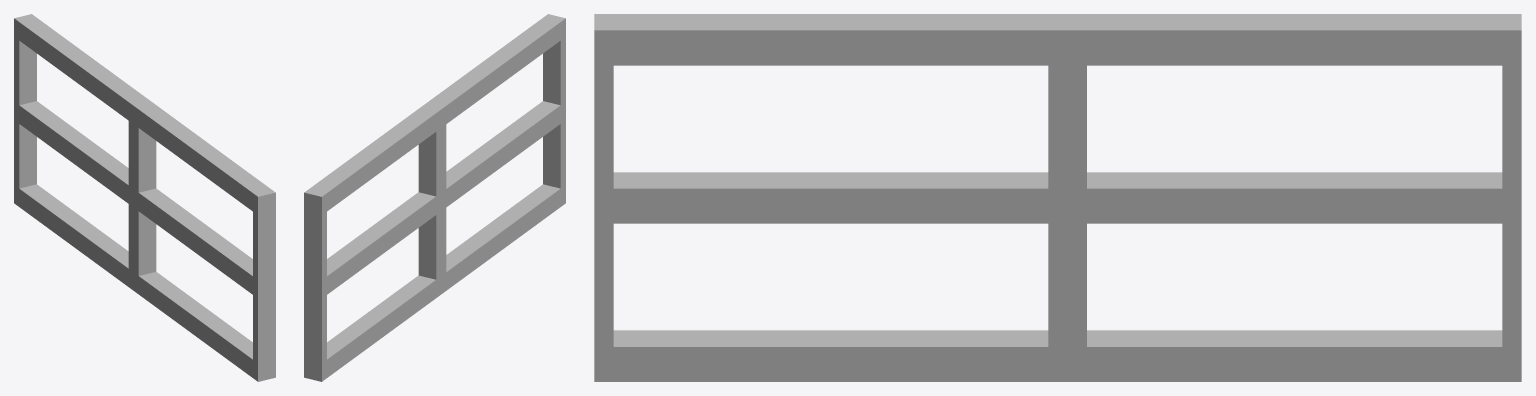
Rendered from WhiteMetalWallSmallRailingPanel1.fbx.
The picture shows the model from 3 angles, left to right: view 1: azimuth 30°, elevation 25°; view 2: azimuth 150°, elevation 25°; view 3: azimuth 270°, elevation 25°; orthographic projection. The views are drawn at different scales.
Visible parts, largest first — view 1: WhiteMetalWallSmallRailingPanel1; view 2: WhiteMetalWallSmallRailingPanel1; view 3: WhiteMetalWallSmallRailingPanel1.
Boxes of the visible parts, x1,y1,x2,y2 form: WhiteMetalWallSmallRailingPanel1: (14,14,275,381); WhiteMetalWallSmallRailingPanel1: (304,14,565,381); WhiteMetalWallSmallRailingPanel1: (594,14,1521,381).
Size of the model in its own units: 10 by 100 by 239.
1 material, 1 textured.
